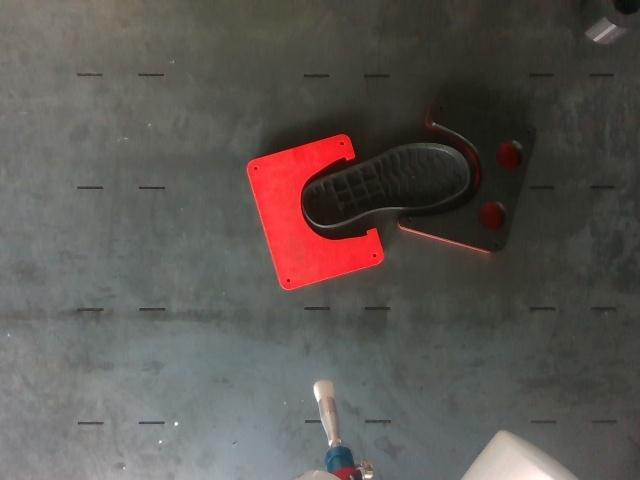shoes: (304, 145, 469, 226)
